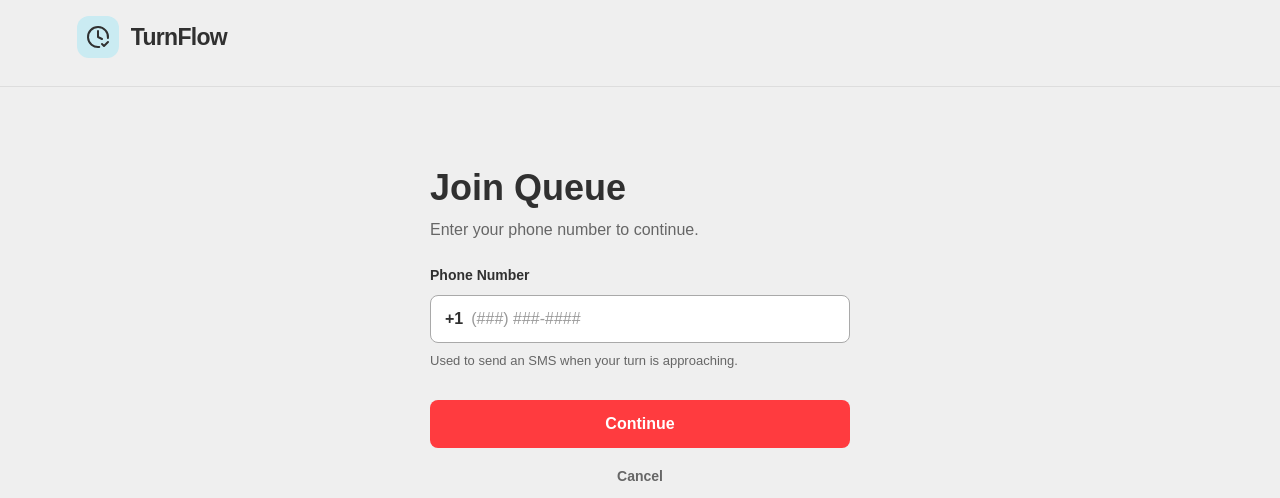
Test: CustomerJoinDetails › formats the phone number as the customer types
Type "7871234567" into the field labelled "Phone Number" at (656, 319), box [463,296,849,342]
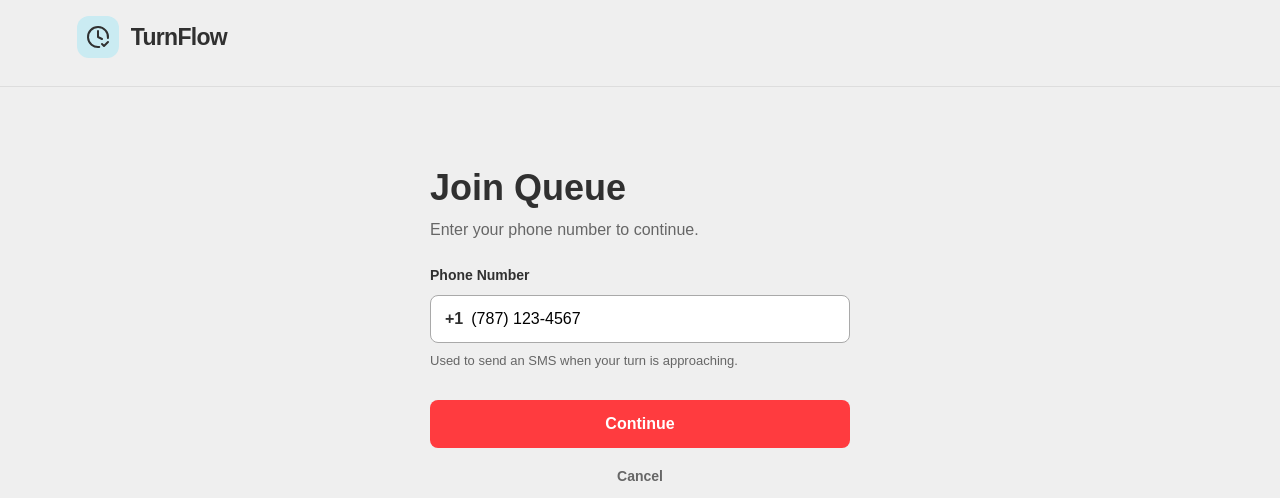
expect the field labelled "Phone Number" holds "(787) 123-4567": met, box [463,296,849,342]
